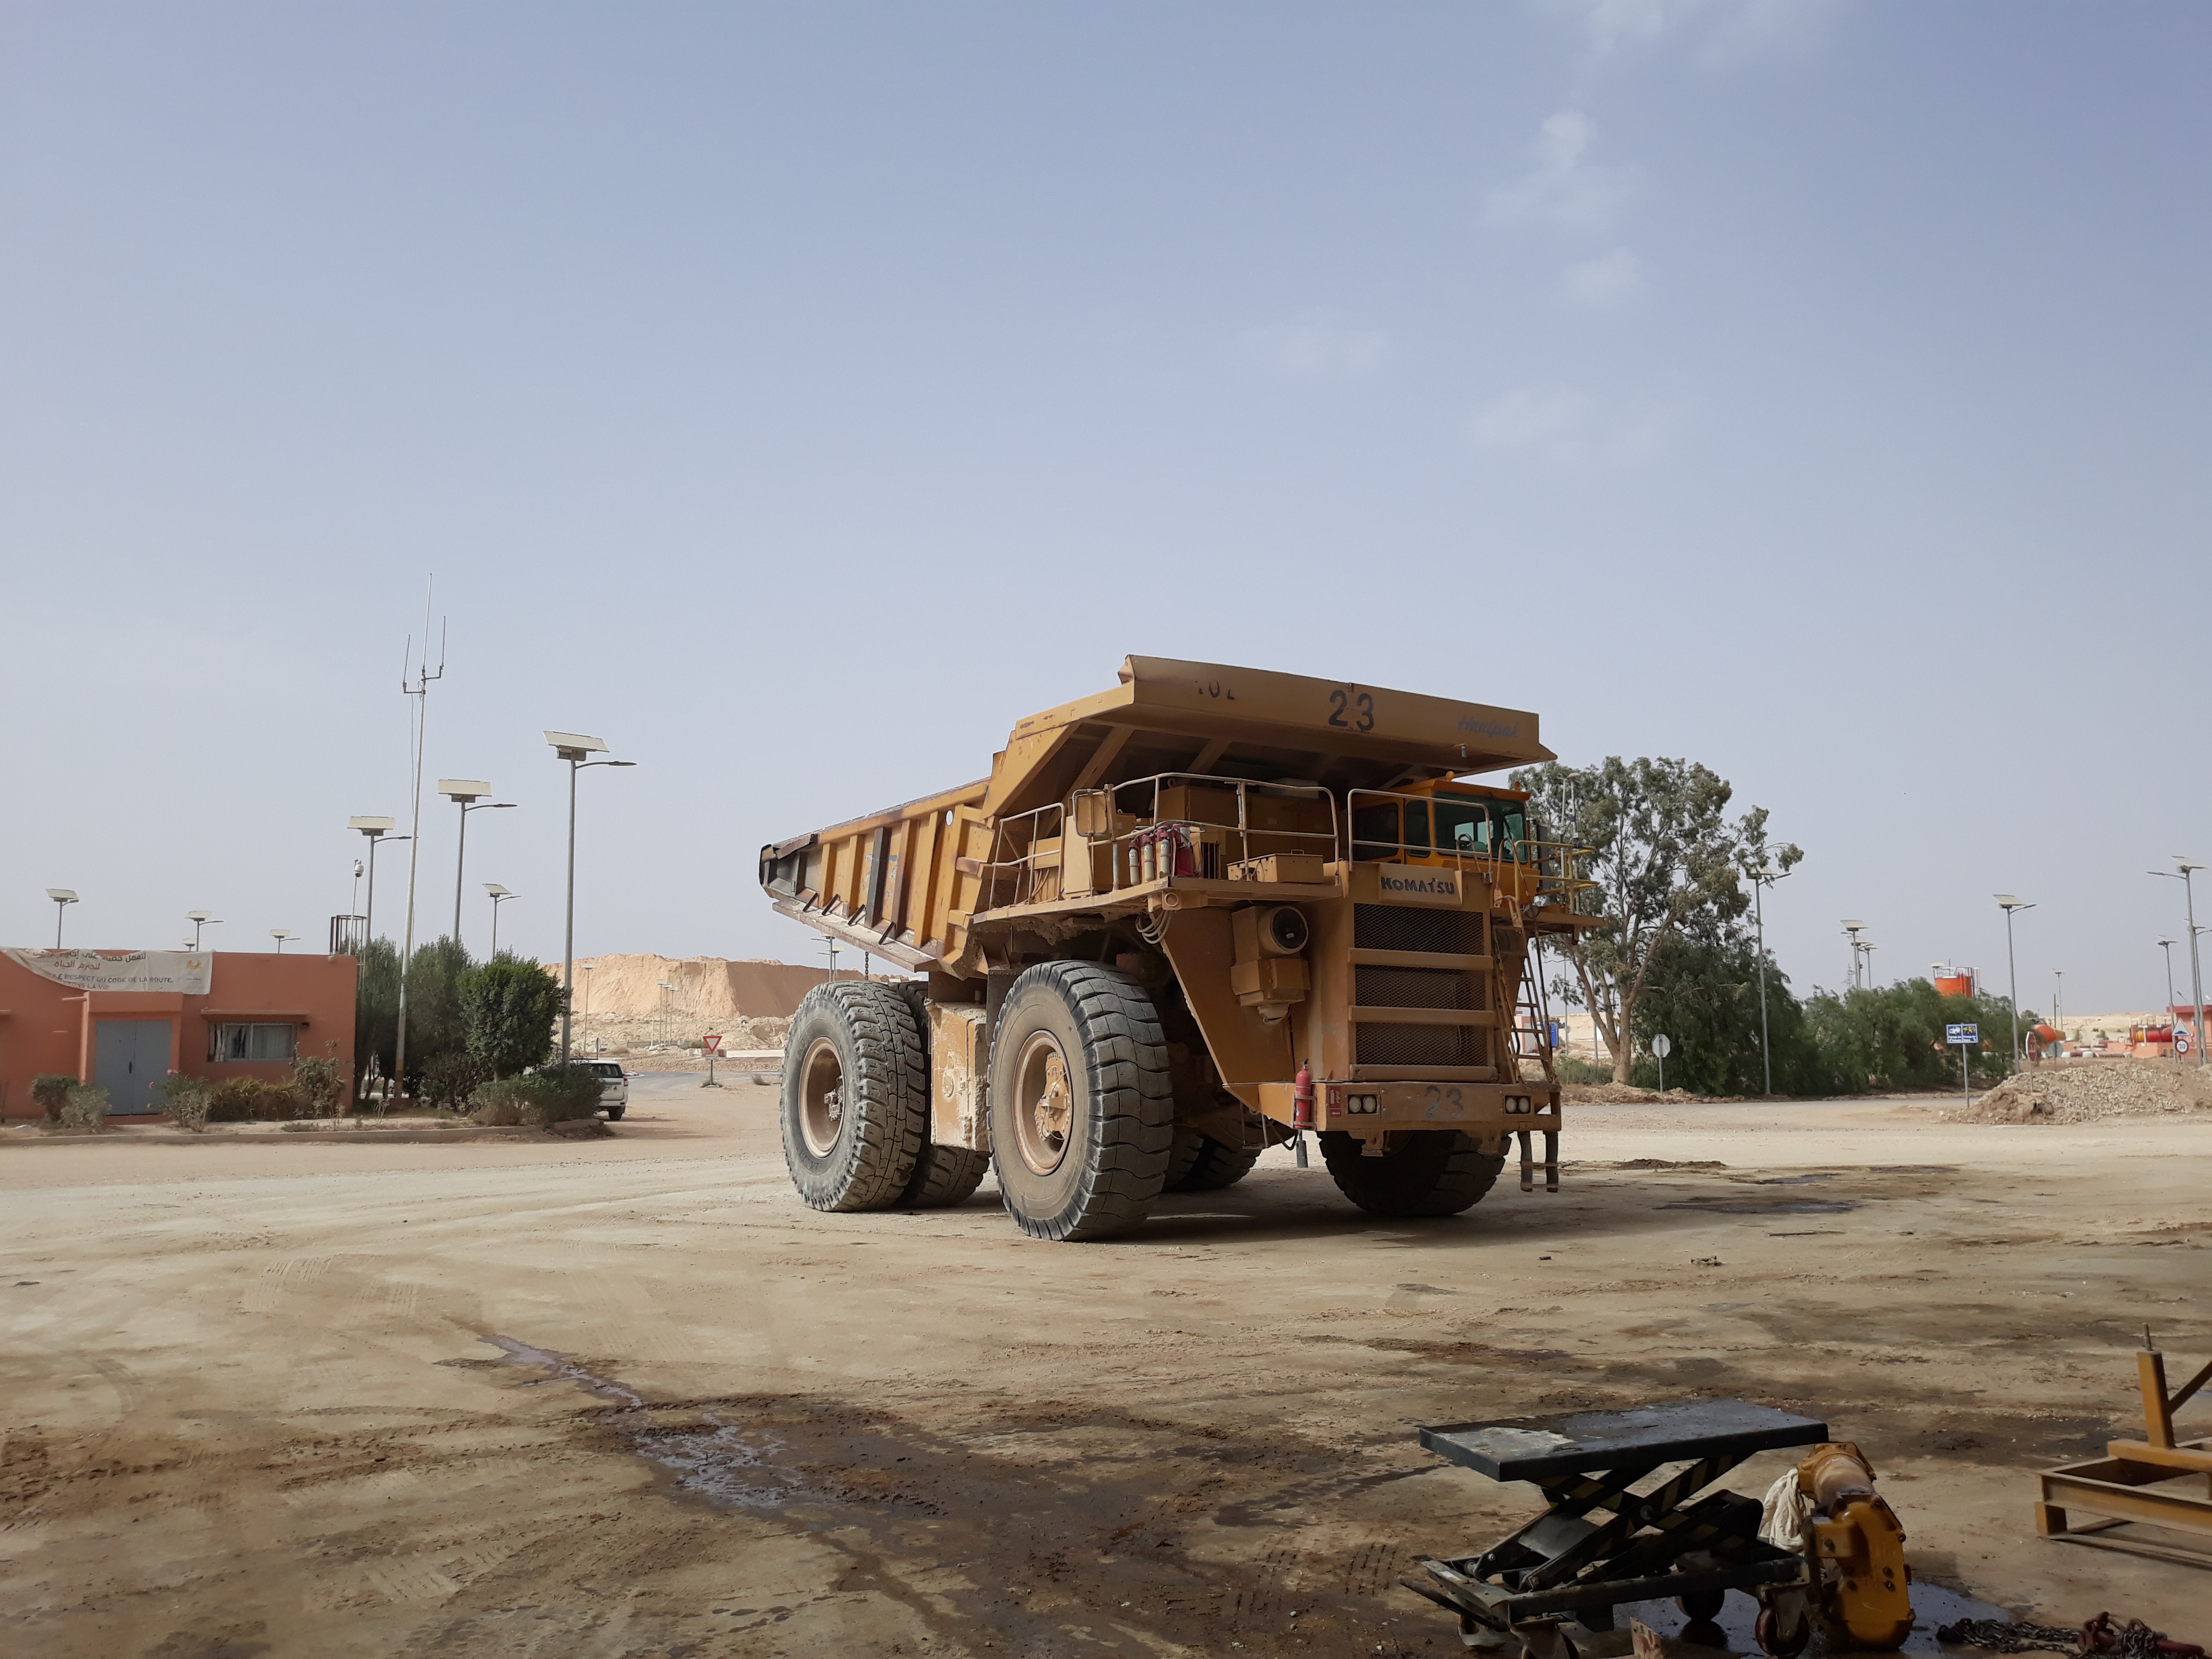camion: (733, 633, 1651, 1277)
car: (540, 1044, 650, 1147)
